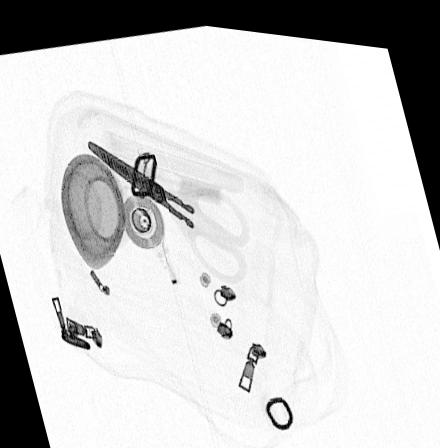Scissors: (84, 136, 251, 286)
